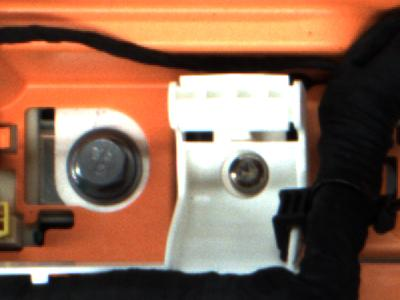nut_b: (59, 128, 147, 203)
